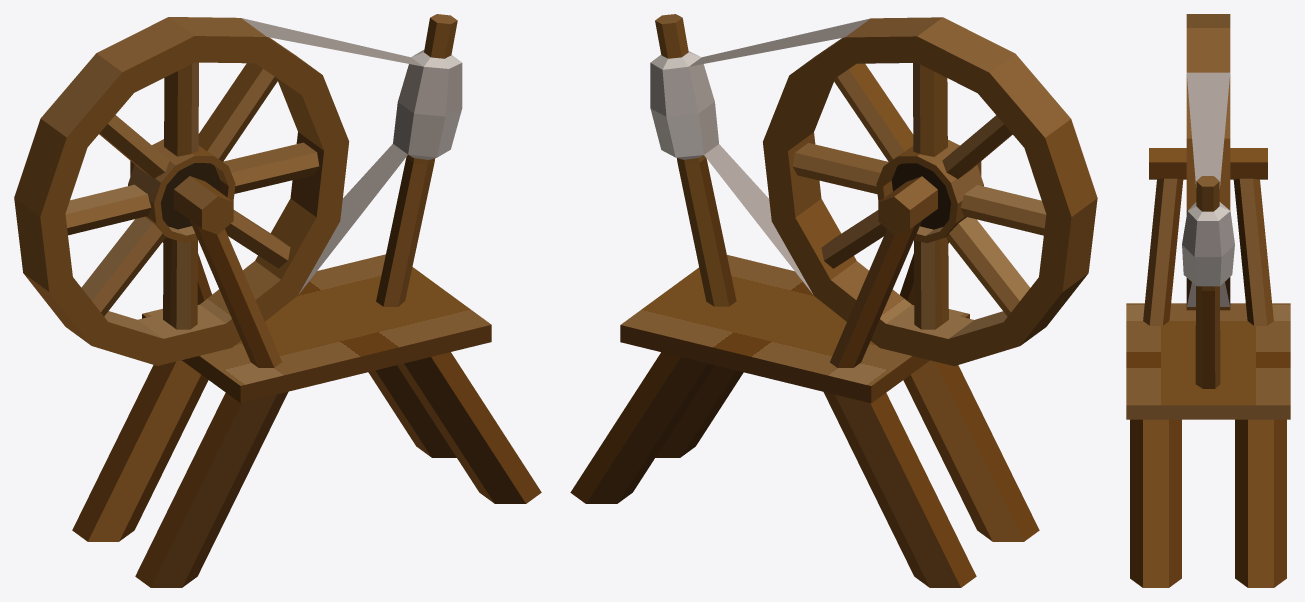
File: spinning_wheel_651x00.gltf
3 views of the same model, side by side, from view 1: azimuth 30°, elevation 25°; view 2: azimuth 150°, elevation 25°; view 3: azimuth 270°, elevation 25° (orthographic). The views are drawn at different scales.
Visible parts, largest first — view 1: spinning_wheel_651x00; view 2: spinning_wheel_651x00; view 3: spinning_wheel_651x00.
Part boxes in pixels (x1,y1,x2,y2): spinning_wheel_651x00: (14,14,541,587); spinning_wheel_651x00: (570,14,1097,587); spinning_wheel_651x00: (1126,14,1290,587).
Size of the model in its own units: 2.8 by 2.91 by 1.01.
Materials: 1 (1 with a texture image).
